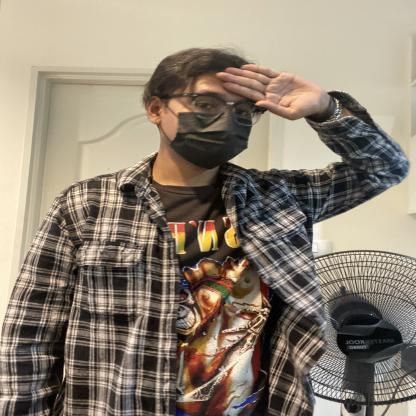Sick: (106, 27, 366, 158)
